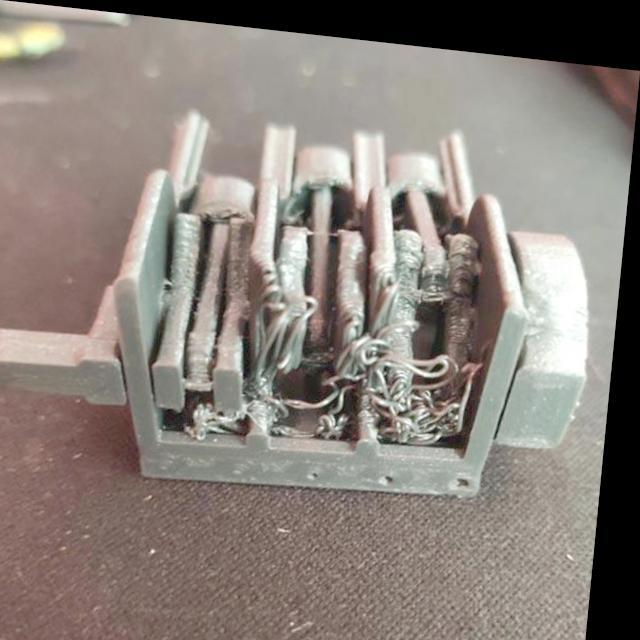spaghetti: (188, 200, 498, 459)
